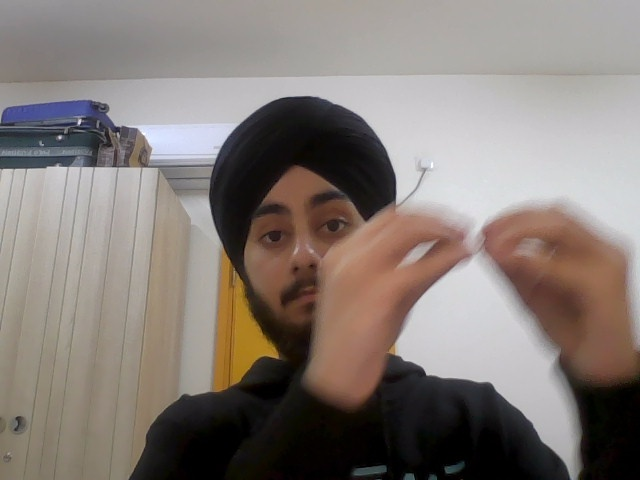More: (314, 196, 640, 395)
